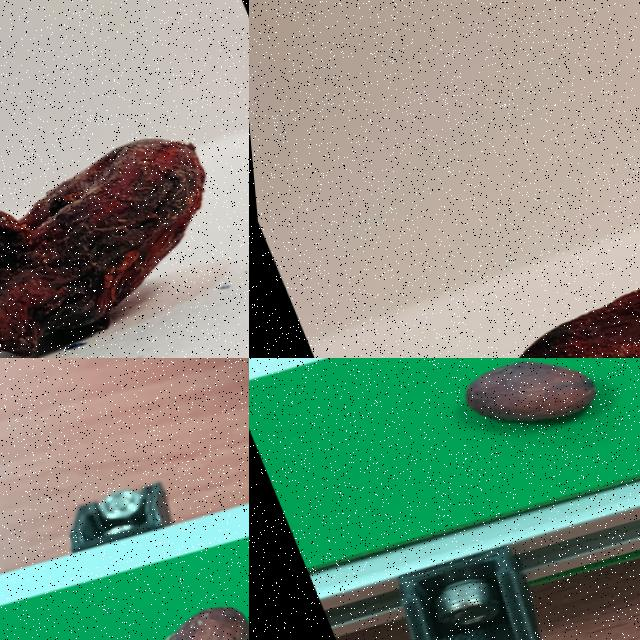Agglomerated_cocoabeans: (0, 66, 248, 357)
Fine_cocoabeans: (354, 358, 639, 535), (34, 550, 248, 639)
Flat_cocoabeans: (379, 205, 639, 357)
